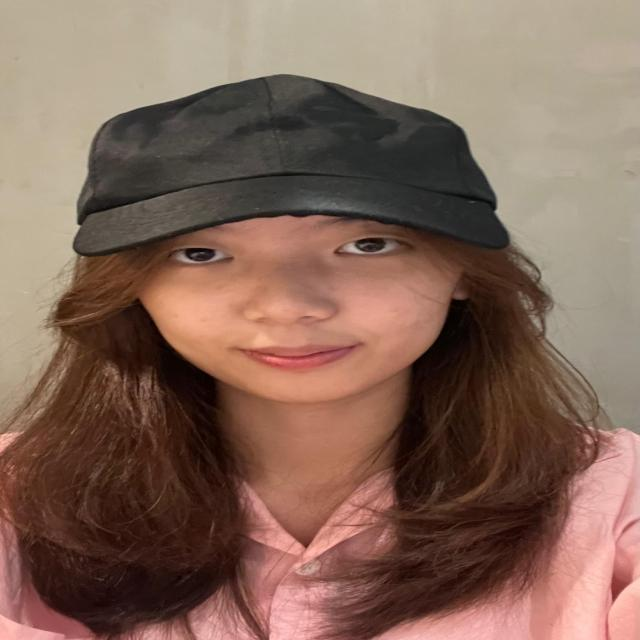3_gorra: (74, 70, 513, 258)
